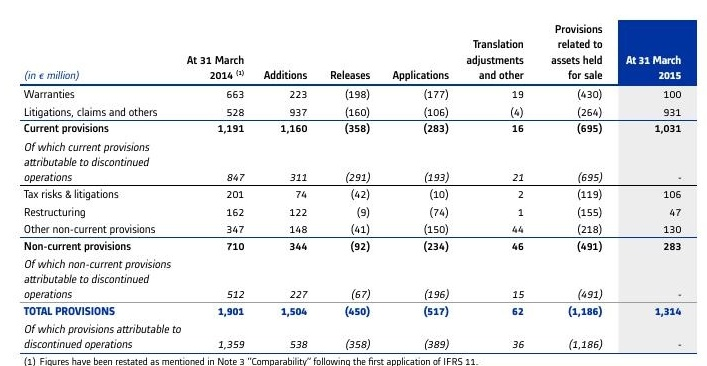table: (0, 0, 707, 366)
